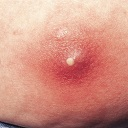Carbuncle: (58, 49, 88, 77)
